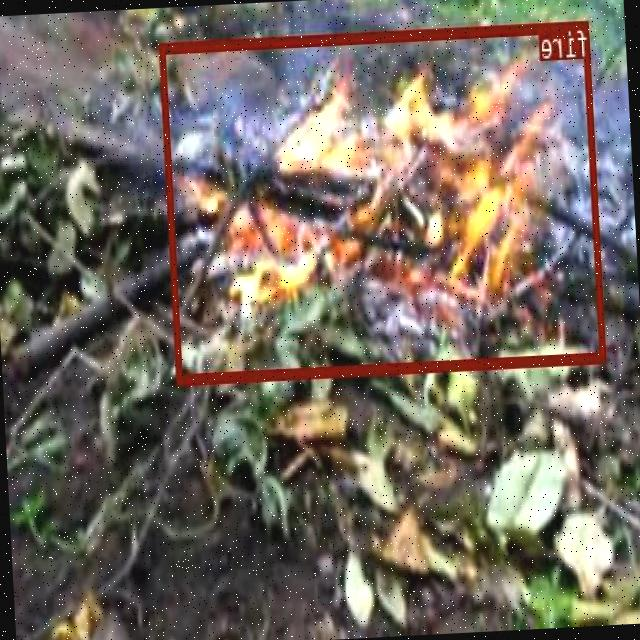fire: (160, 20, 607, 382)
